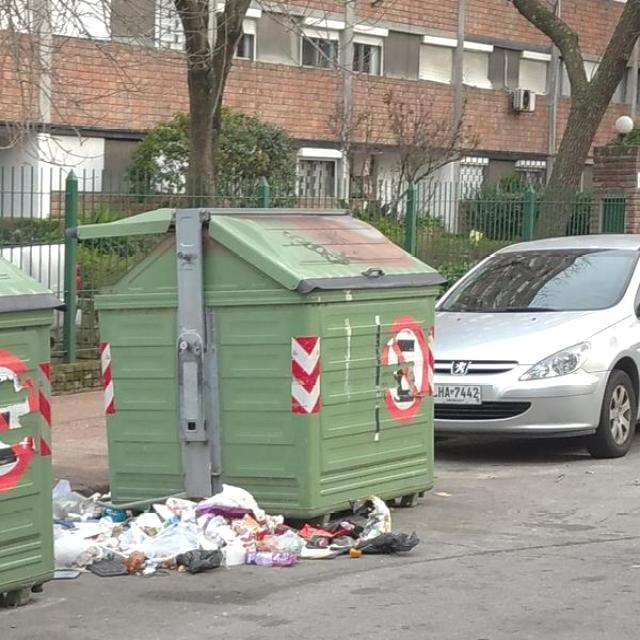high trash: (52, 480, 405, 576)
